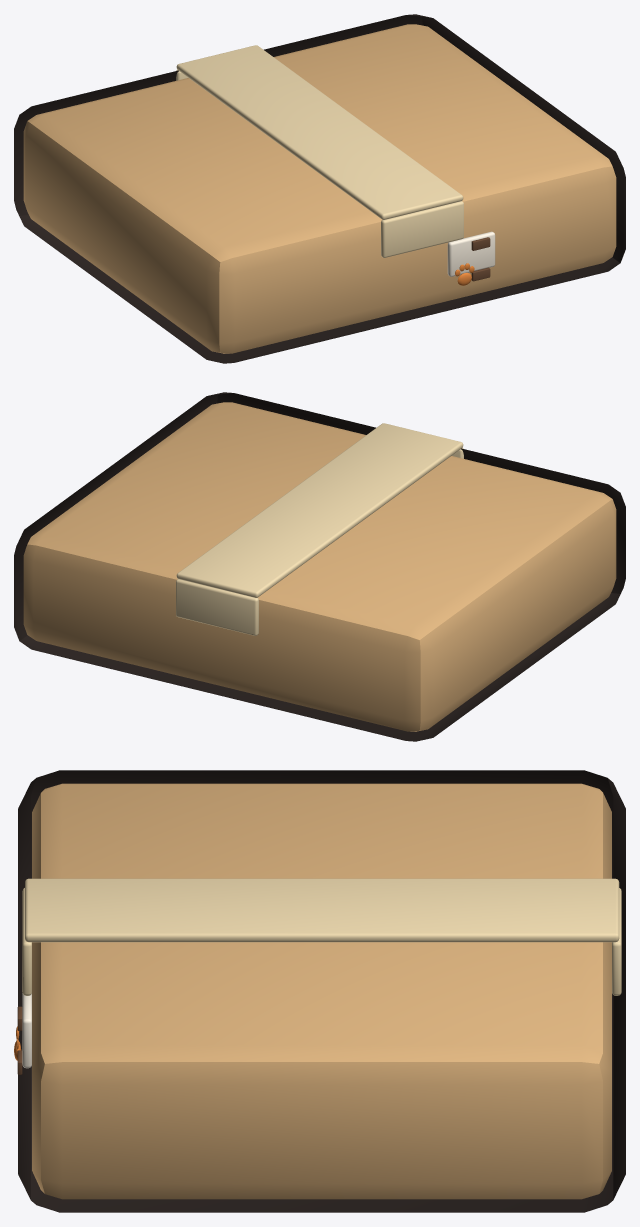
The model's file is parcel_flat.fbx.
The picture shows the model from 3 angles, top to bottom: view 1: azimuth 30°, elevation 25°; view 2: azimuth 150°, elevation 25°; view 3: azimuth 270°, elevation 25°; orthographic projection. The views are drawn at different scales.
Parts seen in each view (by area): view 1: parcel_flat_C_E0B57E, parcel_flat_C_F2DDB0, parcel_flat_Outline, parcel_flat_C_FFF6E6; view 2: parcel_flat_C_E0B57E, parcel_flat_C_F2DDB0, parcel_flat_Outline; view 3: parcel_flat_C_E0B57E, parcel_flat_C_F2DDB0, parcel_flat_Outline, parcel_flat_C_FFF6E6.
Part boxes in pixels (x1,y1,x2,y2): parcel_flat_C_E0B57E: (23,24,616,353); parcel_flat_C_F2DDB0: (176,45,463,257); parcel_flat_Outline: (14,14,625,363); parcel_flat_C_FFF6E6: (447,231,495,276); parcel_flat_C_E0B57E: (23,402,616,731); parcel_flat_C_F2DDB0: (176,423,463,635); parcel_flat_Outline: (14,392,625,741); parcel_flat_C_E0B57E: (32,783,611,1199); parcel_flat_C_F2DDB0: (22,878,621,995); parcel_flat_Outline: (18,770,625,1212); parcel_flat_C_FFF6E6: (22,993,31,1068).
Size of the model in its own units: 0.5832 by 0.1632 by 0.5066.
